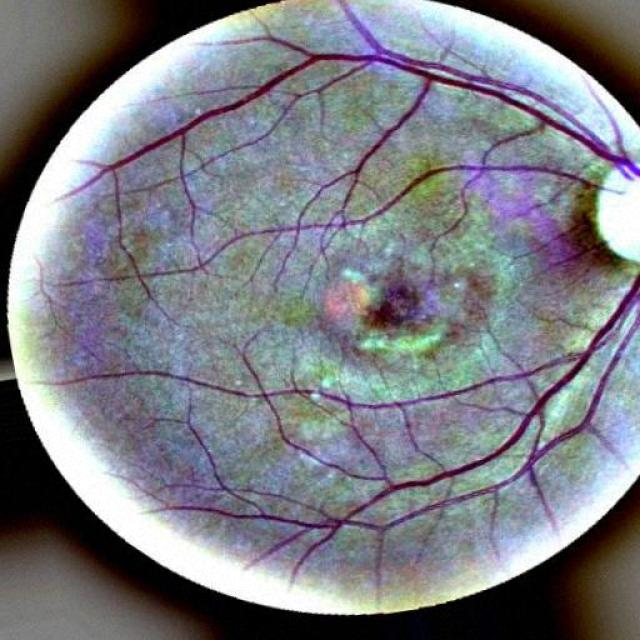Macula: (362, 268, 427, 343)
Nerves: (344, 279, 637, 524), (98, 45, 628, 180), (330, 158, 606, 234)
Optic Disk: (604, 162, 639, 262)
